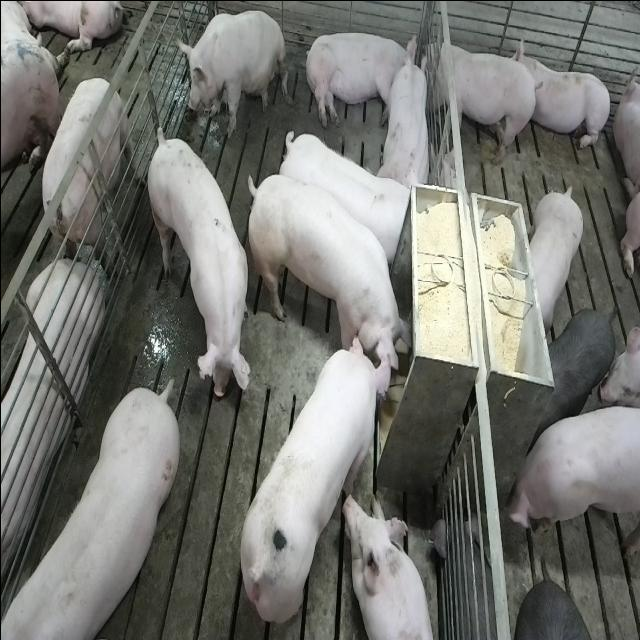Feeding: (236, 332, 398, 624), (250, 170, 416, 378)
Lateral_lying: (302, 29, 418, 129)
Sitting: (174, 7, 286, 139)
Standing: (0, 383, 176, 640), (144, 128, 248, 408), (31, 76, 132, 282), (507, 398, 639, 552), (278, 126, 410, 260), (422, 31, 538, 168), (532, 304, 614, 444), (526, 182, 586, 336)
Sternal_lying: (0, 259, 100, 608), (345, 491, 436, 640), (514, 36, 612, 154), (378, 49, 433, 194)
